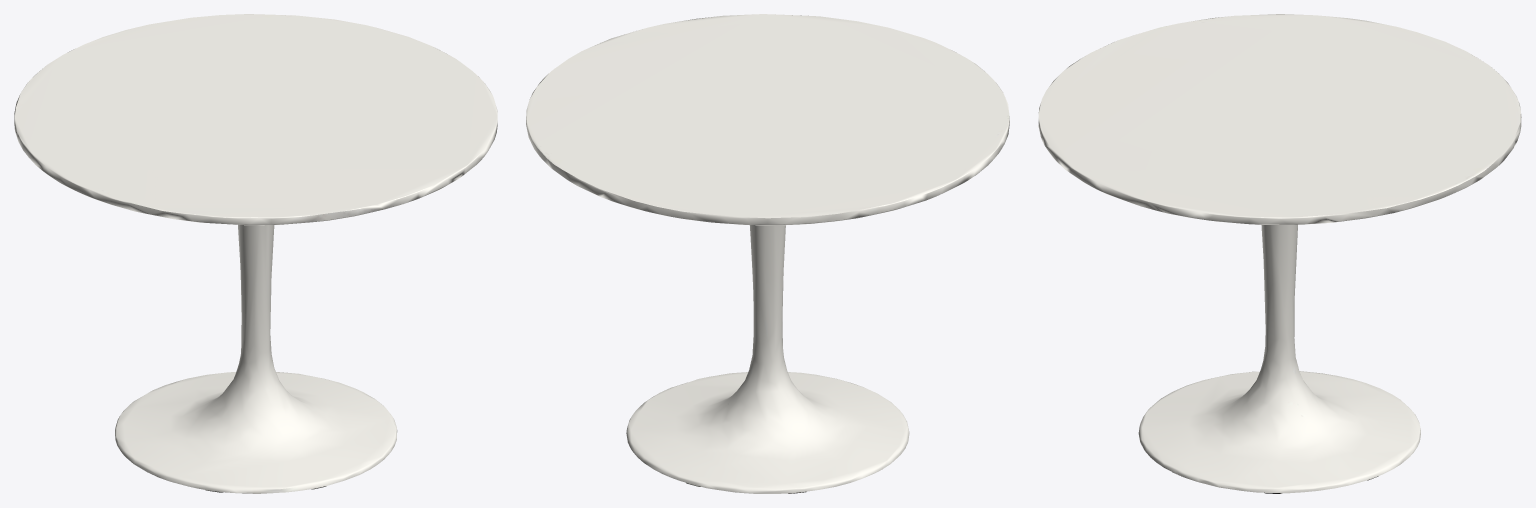
Rendered from docksta_table_white_white.glb.
The picture shows the model from 3 angles, left to right: view 1: azimuth 30°, elevation 25°; view 2: azimuth 150°, elevation 25°; view 3: azimuth 270°, elevation 25°; orthographic projection.
Parts seen in each view (by area): view 1: ProcessedMeshNode; view 2: ProcessedMeshNode; view 3: ProcessedMeshNode.
Part boxes in pixels (<box>): ProcessedMeshNode: <box>14,14,497,493</box>; ProcessedMeshNode: <box>526,14,1009,493</box>; ProcessedMeshNode: <box>1038,14,1521,493</box>.
Size of the model in its own units: 1.03 by 0.7491 by 1.03.
Materials: 1 (1 with a texture image).
